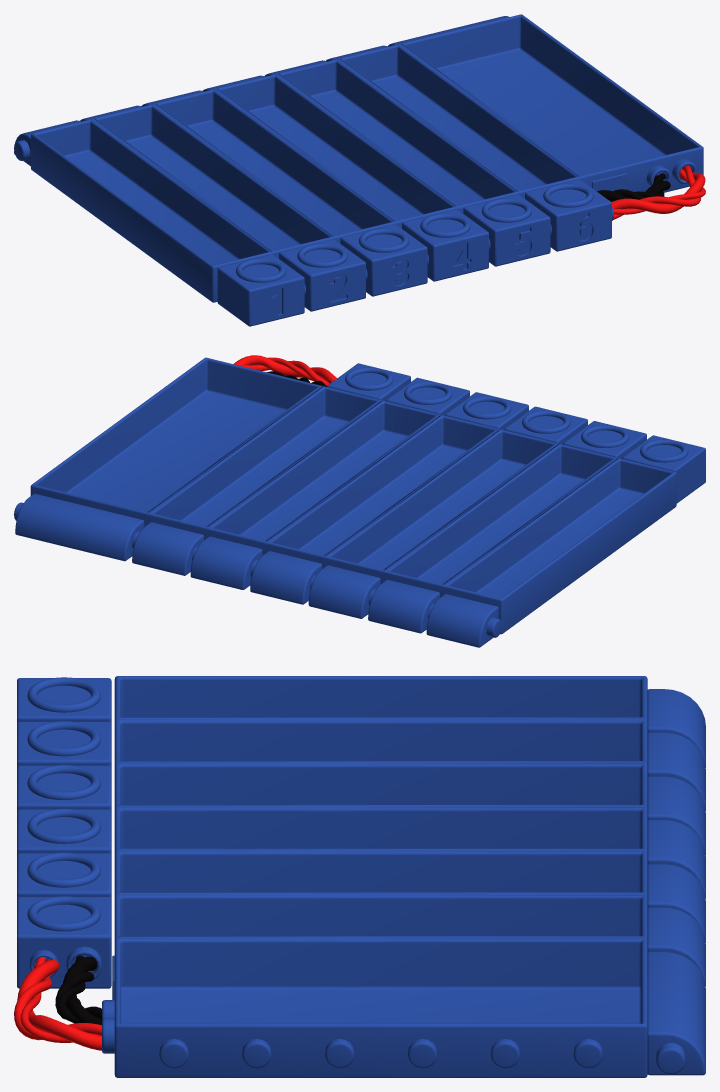
Rendered from BaseMachine.fbx.
The picture shows the model from 3 angles, top to bottom: view 1: azimuth 30°, elevation 25°; view 2: azimuth 150°, elevation 25°; view 3: azimuth 270°, elevation 25°; orthographic projection. The views are drawn at different scales.
Visible parts, largest first — view 1: Base; view 2: Base; view 3: Base.
Part boxes in pixels (x1,y1,x2,y2): Base: (14, 14, 705, 326); Base: (14, 355, 705, 647); Base: (14, 676, 705, 1077).
Bounding box in the file's own units: 7137 × 555 × 5845.
